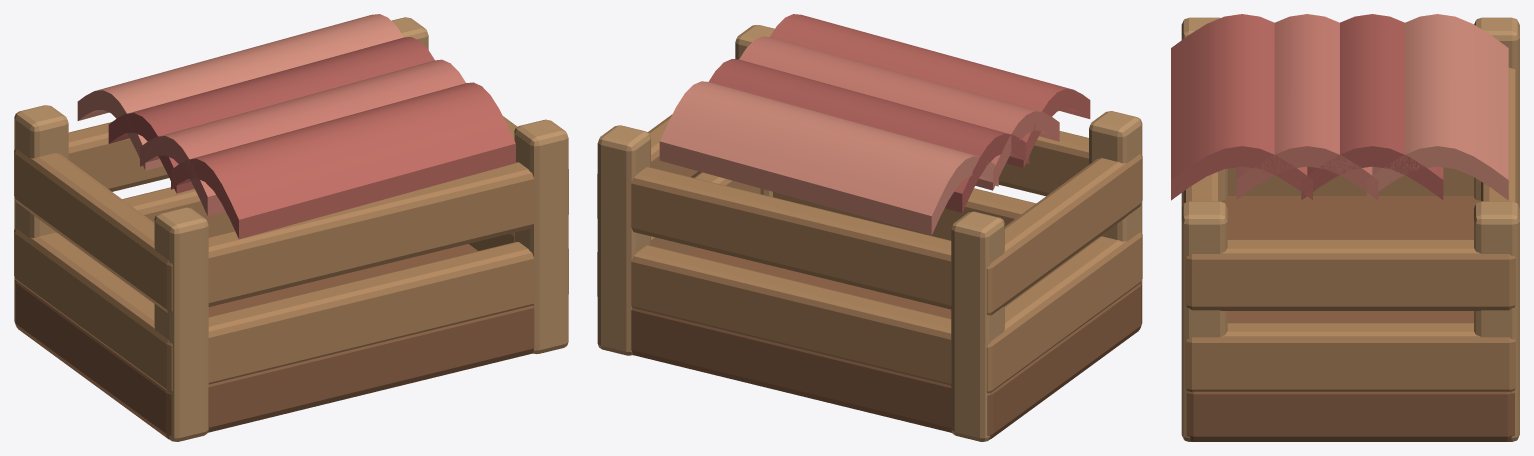
File: carry_tiles.glb
3 renders of one model, left to right at view 1: azimuth 30°, elevation 25°; view 2: azimuth 150°, elevation 25°; view 3: azimuth 270°, elevation 25°, orthographic. The views are drawn at different scales.
Visible parts, largest first — view 1: carry_tiles; view 2: carry_tiles; view 3: carry_tiles.
Part boxes in pixels (x1,y1,x2,y2): carry_tiles: (14, 14, 568, 441); carry_tiles: (597, 14, 1142, 441); carry_tiles: (1171, 14, 1519, 441).
Bounding box in the file's own units: 0.58 × 0.354 × 0.4175.
